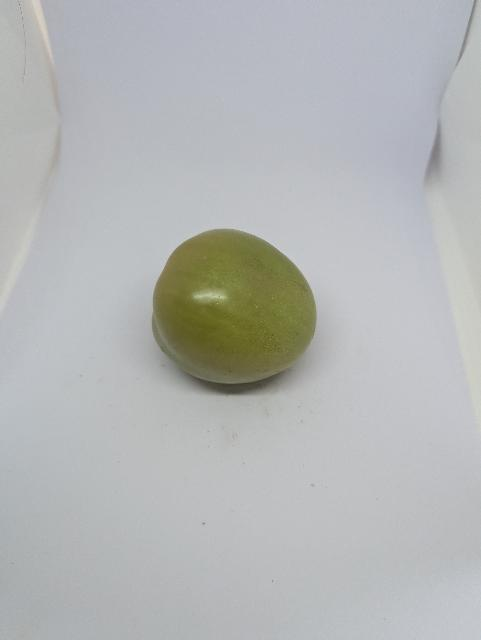green: (143, 213, 333, 410)
